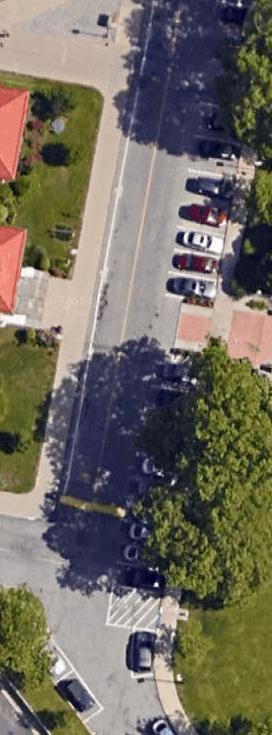parkingspot: (161, 0, 256, 305), (109, 449, 178, 595), (47, 639, 105, 726), (143, 358, 194, 410), (128, 626, 158, 680)
